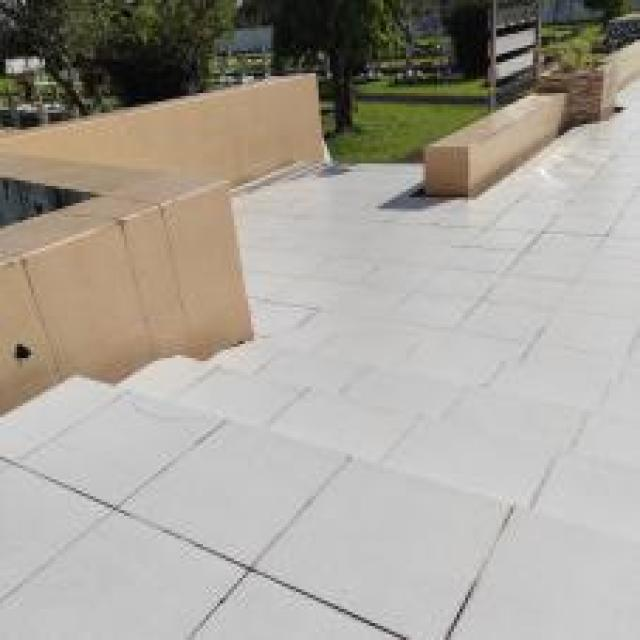upstair: (35, 297, 638, 548)
